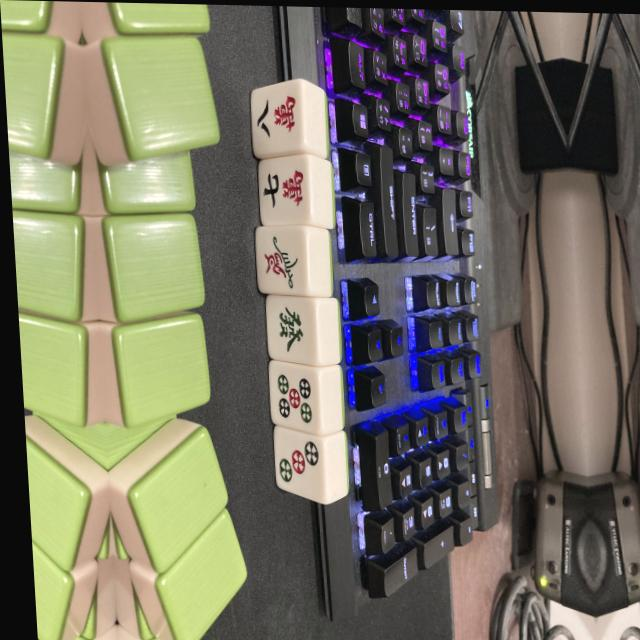fa: (268, 295, 318, 362)
m7: (260, 159, 315, 229)
m8: (253, 84, 307, 156)
s1: (257, 224, 310, 295)
t3: (274, 430, 326, 502)
t5: (271, 363, 321, 433)
